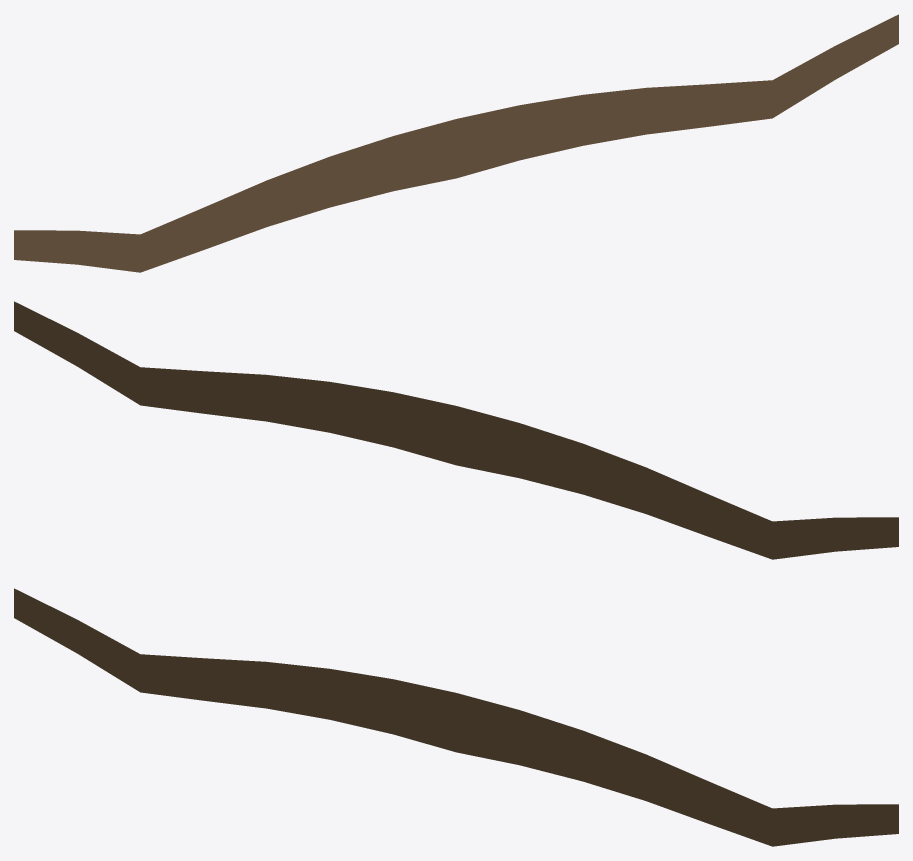
The model's file is Mustache.glb.
3 views of the same model, one above another, from view 1: azimuth 30°, elevation 25°; view 2: azimuth 150°, elevation 25°; view 3: azimuth 330°, elevation 25° (orthographic).
Parts seen in each view (by area): view 1: Mesh; view 2: Mesh; view 3: Mesh.
Part boxes in pixels (left/top/right/bottom): Mesh: left=14, top=14, right=898, bottom=272; Mesh: left=14, top=301, right=898, bottom=559; Mesh: left=14, top=588, right=898, bottom=846.
Bounding box in the file's own units: 0.28 × 0.0232 × 0.
